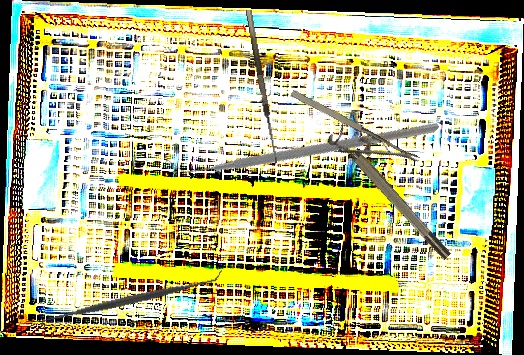Chopper: (164, 7, 441, 280)
Fixation Ring: (325, 124, 454, 267)
Hook Surgical: (245, 7, 287, 165)
Needle Holder: (278, 85, 421, 189)
Spatula Surgical: (36, 267, 226, 332)
